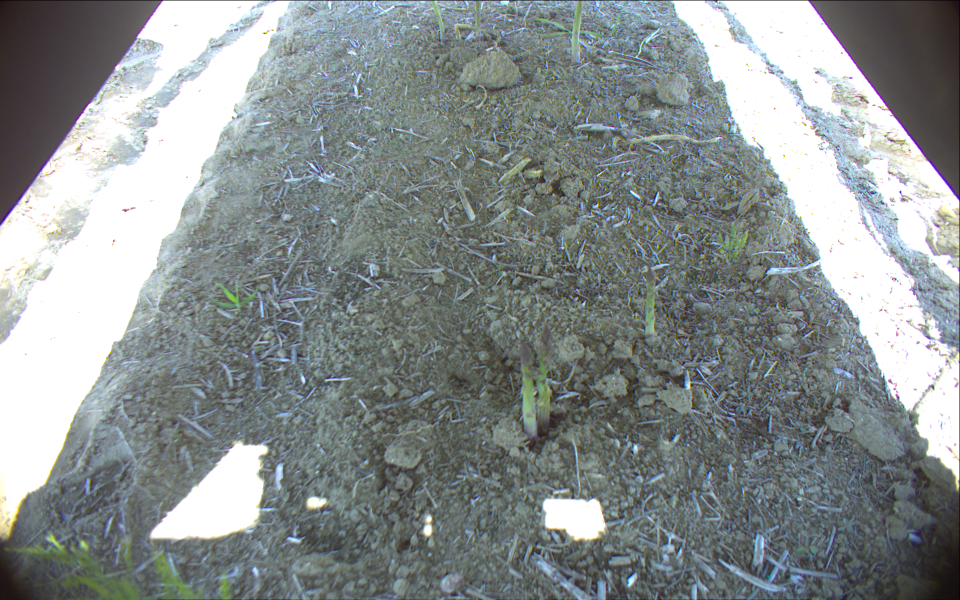aspa: (519, 339, 538, 442), (536, 326, 553, 437), (454, 23, 504, 48), (570, 1, 587, 65), (644, 264, 657, 337), (631, 135, 723, 145), (428, 1, 445, 31), (472, 1, 484, 35), (436, 3, 471, 13)
